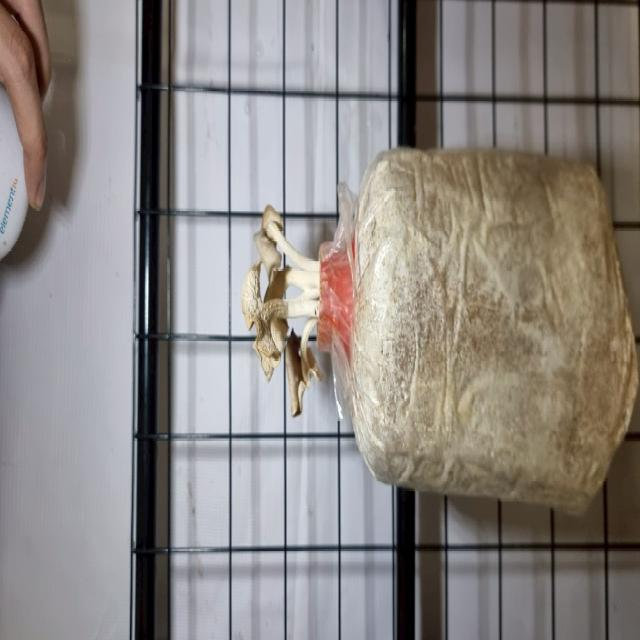abnormal: (277, 311, 331, 428), (249, 194, 323, 276), (250, 300, 322, 383), (238, 274, 322, 345)
